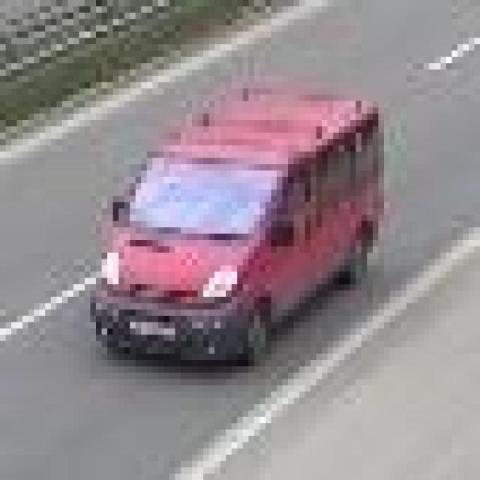van: (88, 94, 387, 354)
